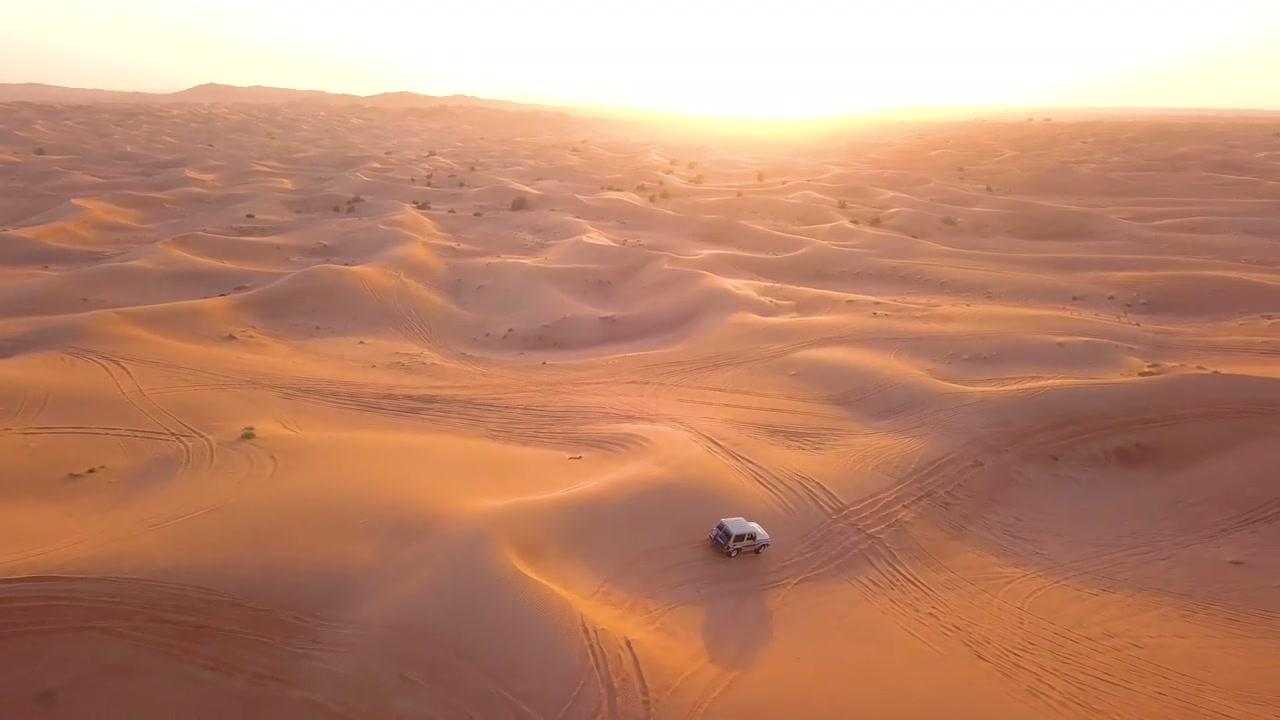vehicle_track: (847, 531, 1266, 719), (628, 447, 981, 624), (753, 424, 1059, 593), (0, 576, 343, 698), (169, 367, 643, 451), (997, 498, 1279, 637), (0, 442, 278, 569), (776, 445, 984, 589), (267, 384, 640, 451), (981, 403, 1279, 480), (994, 561, 1279, 640), (64, 347, 215, 470), (679, 423, 842, 513), (359, 275, 501, 374), (113, 354, 427, 393), (557, 618, 653, 719), (705, 418, 849, 453), (658, 661, 740, 719), (0, 425, 178, 443), (2, 389, 50, 429)
